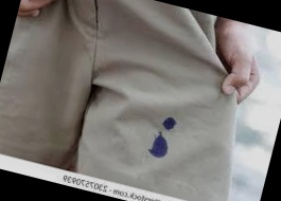ink: (149, 135, 170, 160), (162, 116, 177, 131)
